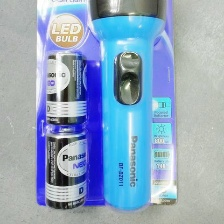battery: (43, 124, 88, 213), (44, 47, 91, 127)
